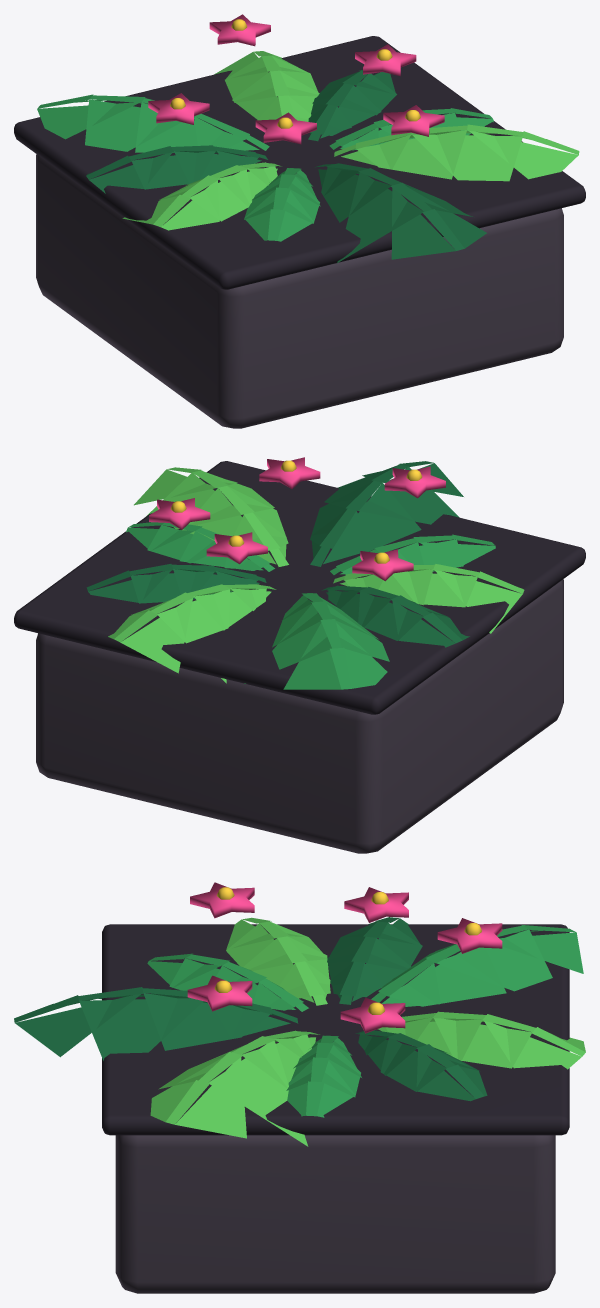
The model's file is lava_planter.glb.
3 renders of one model, top to bottom at view 1: azimuth 30°, elevation 25°; view 2: azimuth 150°, elevation 25°; view 3: azimuth 270°, elevation 25°, orthographic. The views are drawn at different scales.
Parts seen in each view (by area): view 1: Planter; view 2: Planter; view 3: Planter.
Boxes of the visible parts, left/top/right/bottom form: Planter: left=14, top=14, right=585, bottom=428; Planter: left=14, top=457, right=585, bottom=853; Planter: left=14, top=882, right=585, bottom=1293.
Size of the model in its own units: 1.83 by 1.15 by 2.08.
